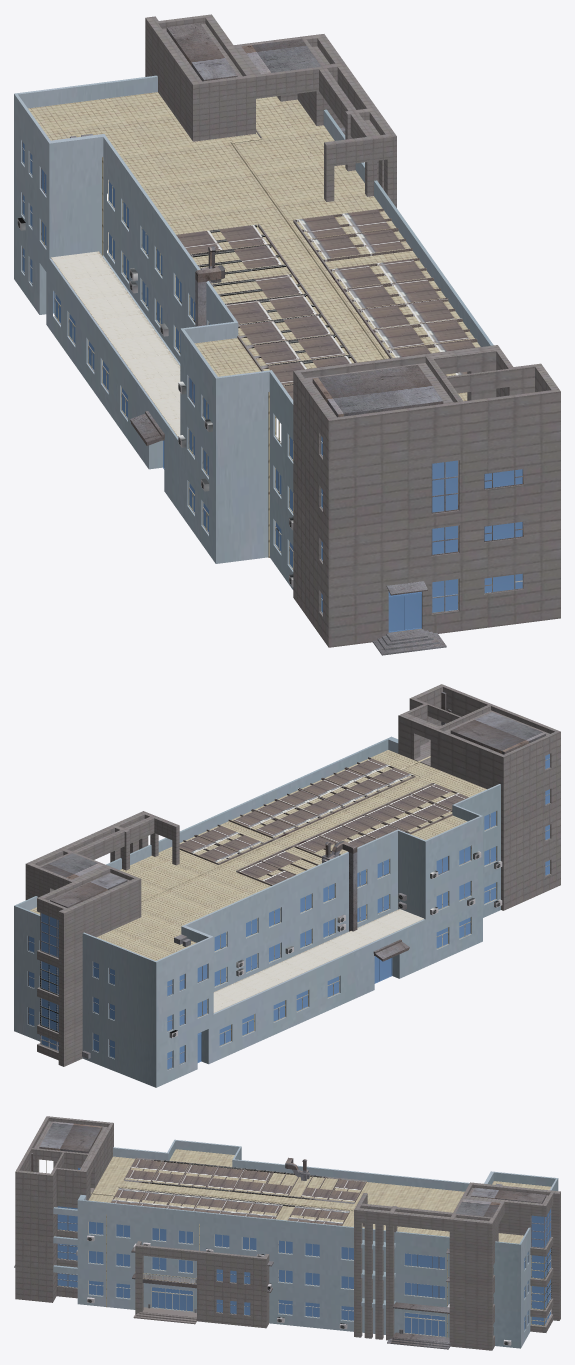
Rendered from House3.glb.
3 renders of one model, top to bottom at view 1: azimuth 30°, elevation 25°; view 2: azimuth 150°, elevation 25°; view 3: azimuth 270°, elevation 25°, orthographic. The views are drawn at different scales.
Visible parts, largest first — view 1: Box017; view 2: Box017; view 3: Box017.
Part boxes in pixels (x1,y1,x2,y2): Box017: (14, 14, 560, 655); Box017: (14, 684, 560, 1087); Box017: (14, 1116, 560, 1350).
Bounding box in the file's own units: 28.39 × 15.61 × 60.82.
Materials: 8 (8 with a texture image).
